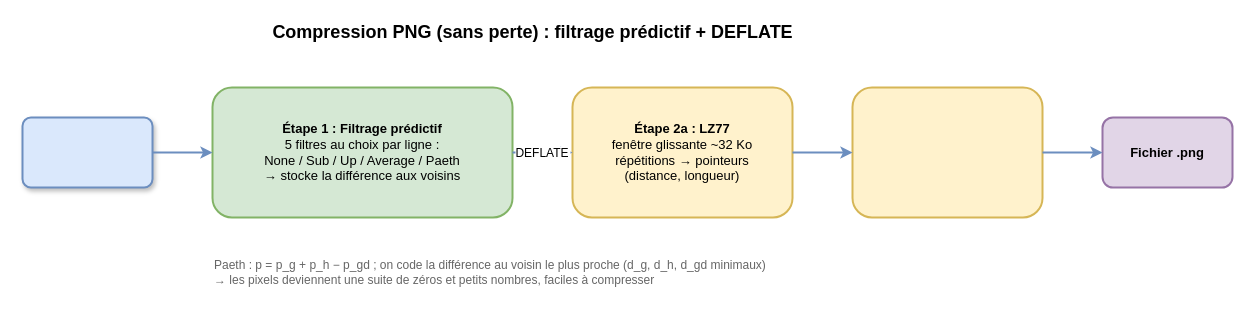
The diagram is 1250 pixels wide and 314 high, and some of its shapes have lost their labels. Here are the shapes that lost their labels. From the top down, the centre of each, then its label:
(x=88, y=153): Image pixels bruts
(x=947, y=152): Étape 2b : Huffman valeurs fréquentes → codes courts
